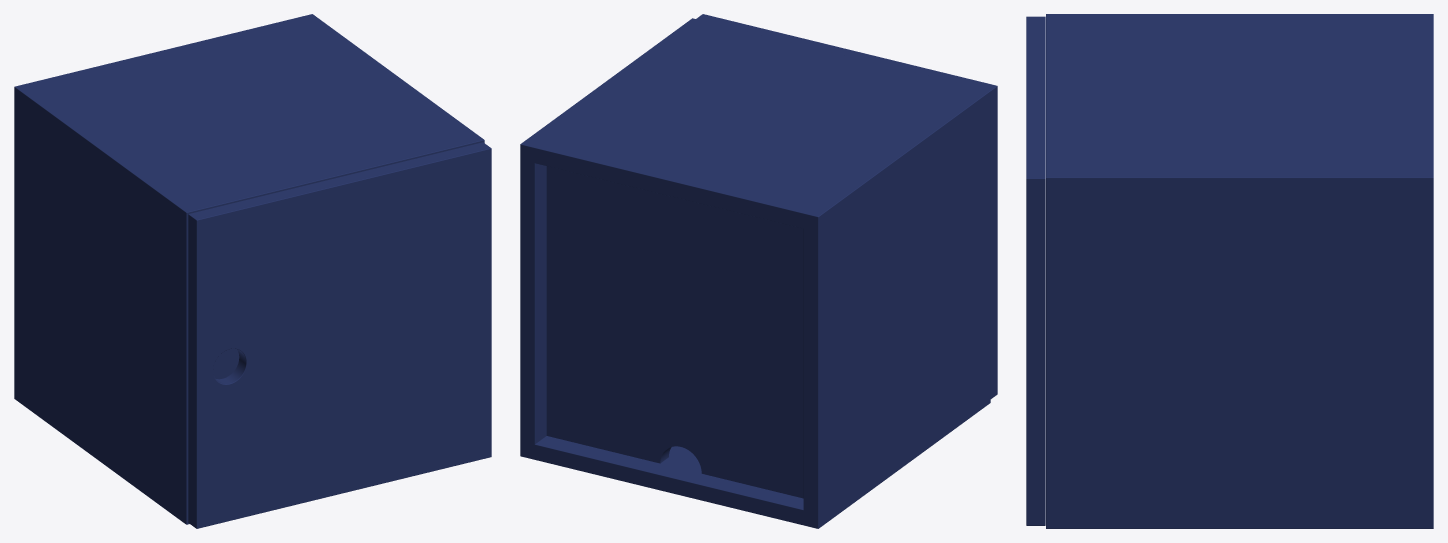
File: MOD_1X1_D_B_IZQ_AP_AF.glb
The picture shows the model from 3 angles, left to right: view 1: azimuth 30°, elevation 25°; view 2: azimuth 150°, elevation 25°; view 3: azimuth 270°, elevation 25°; orthographic projection. The views are drawn at different scales.
Size of the model in its own units: 360 by 360 by 378.
